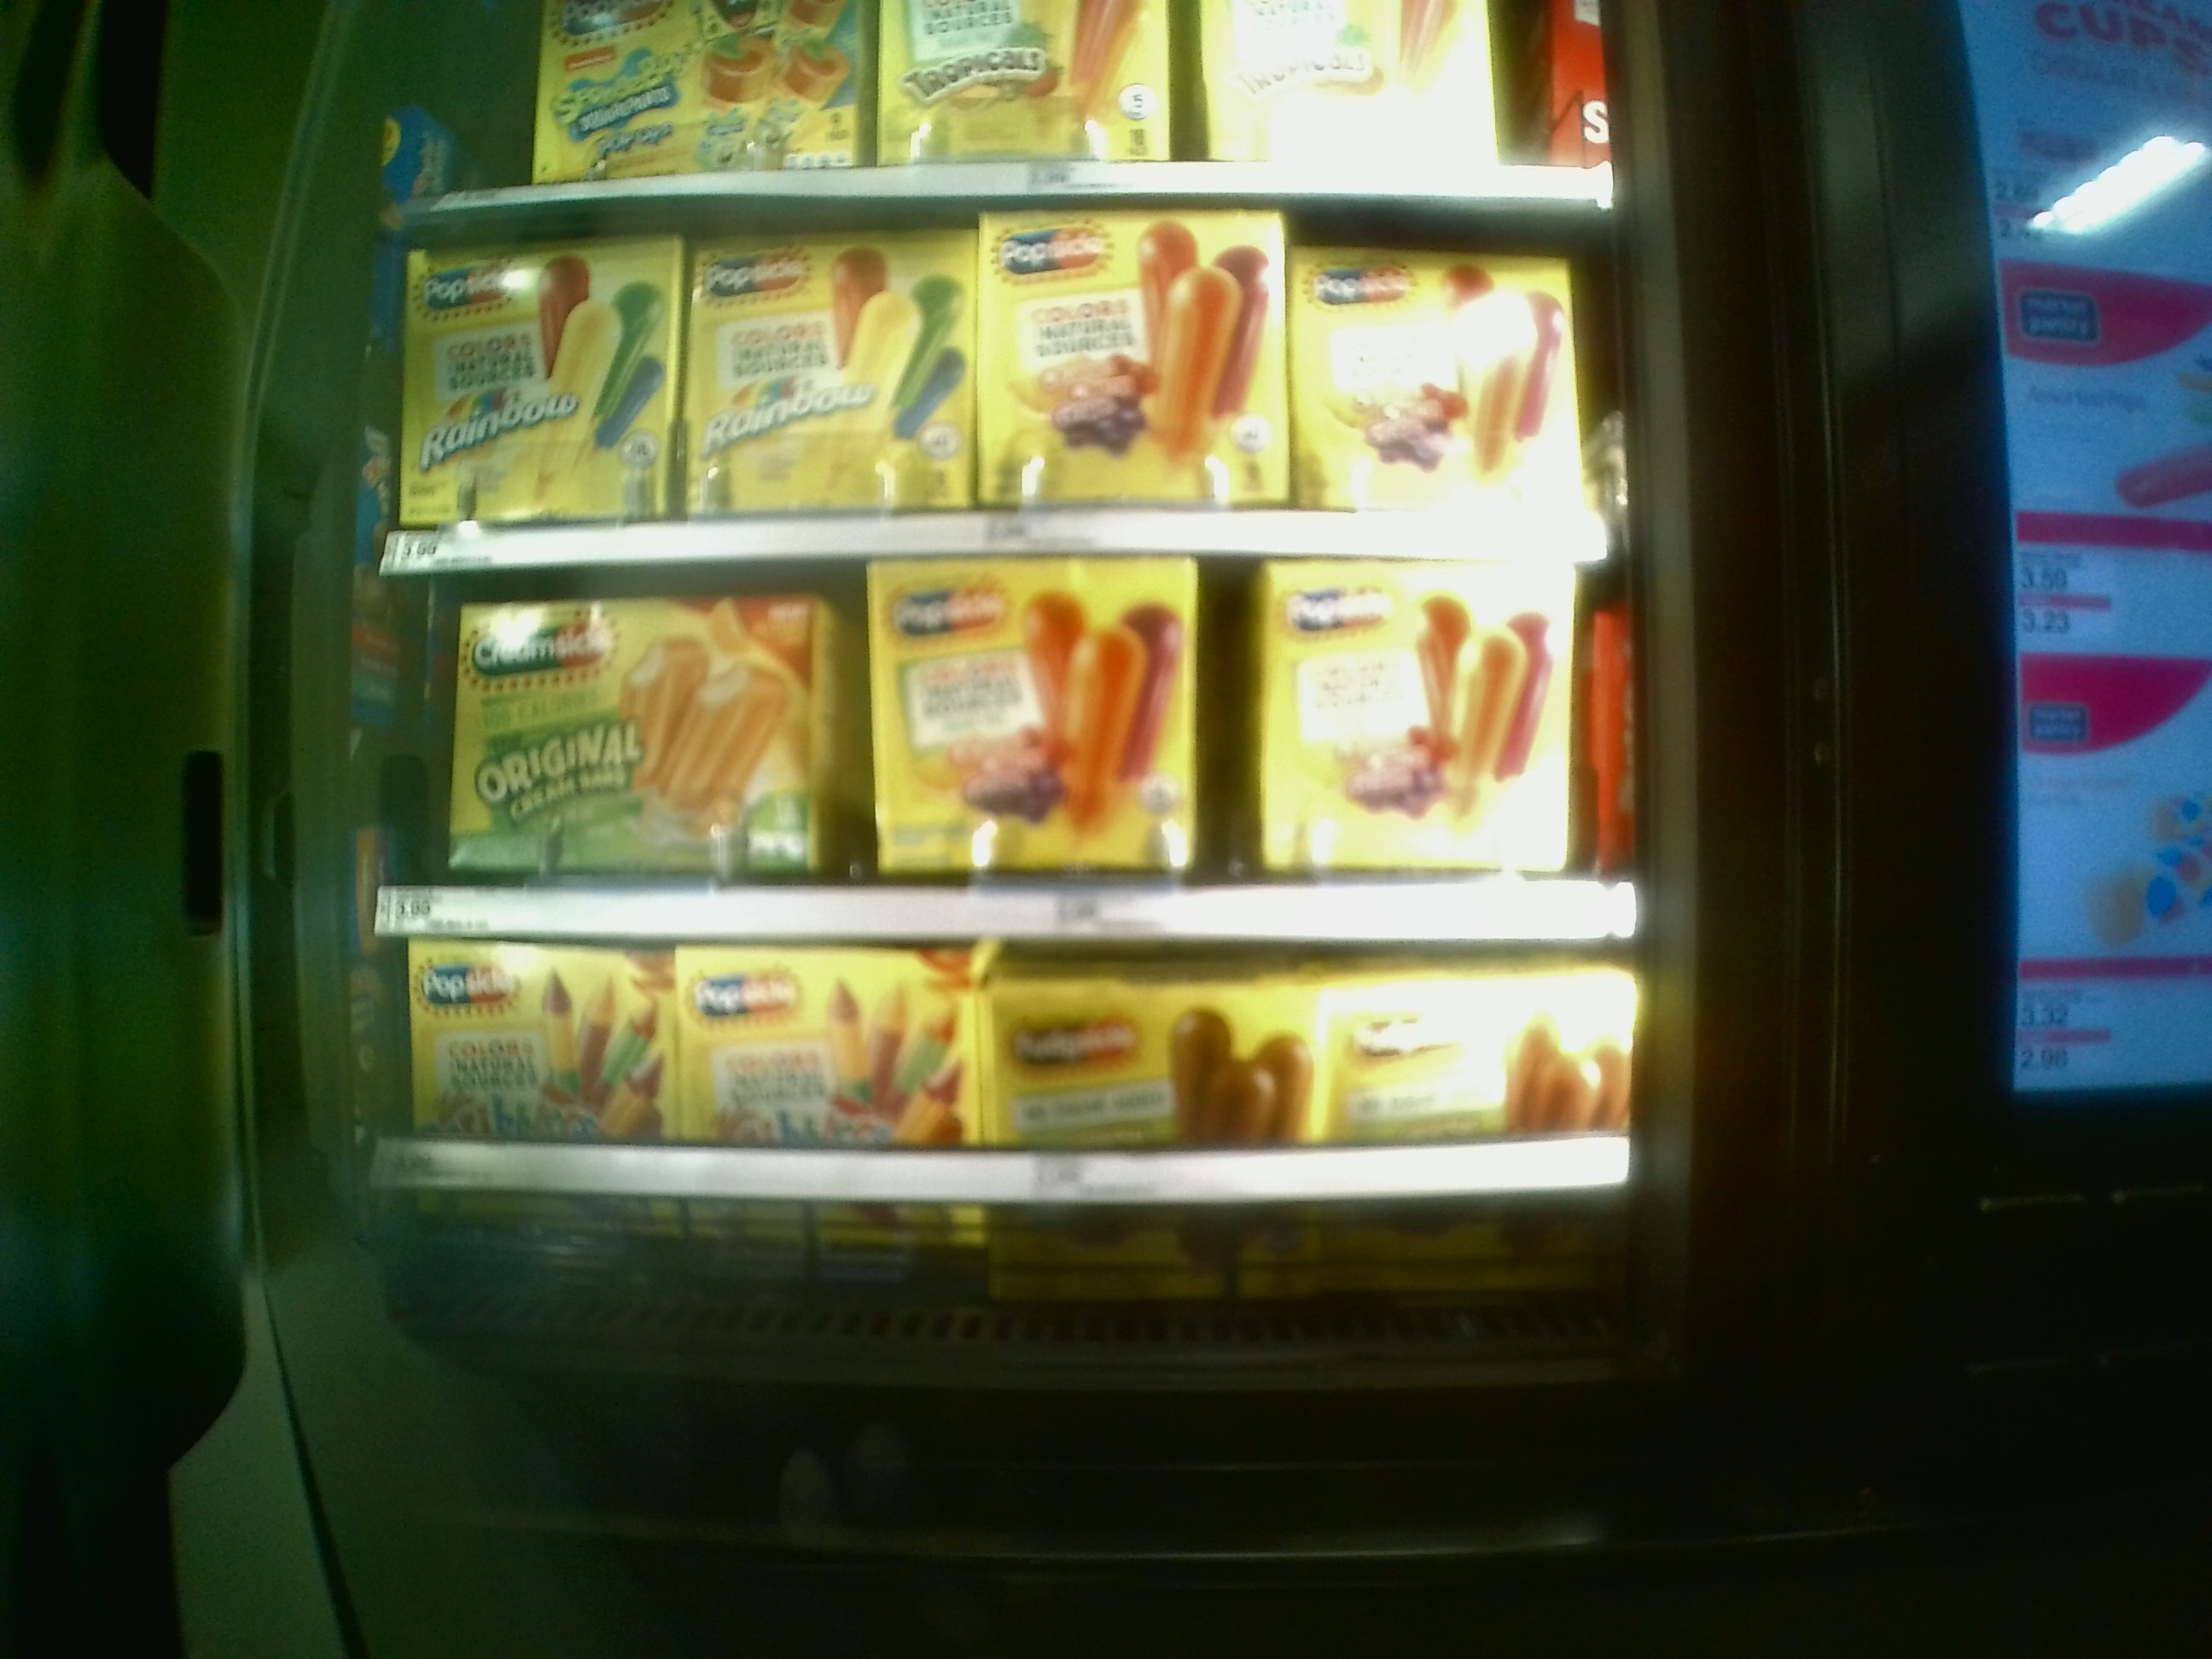frozen-food-shelf: (404, 563, 1630, 948), (394, 232, 1615, 568)
